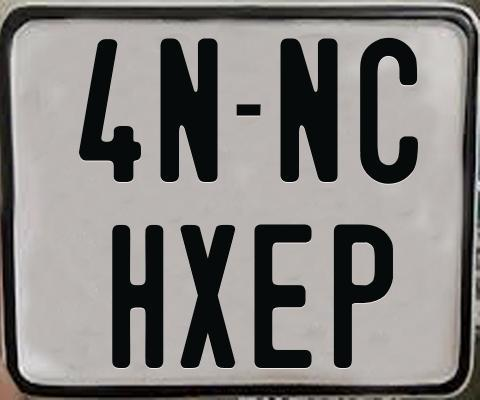4: (79, 37, 144, 184)
C: (360, 36, 419, 185)
E: (254, 223, 313, 373)
H: (111, 225, 162, 368)
N: (277, 37, 339, 186), (157, 36, 218, 183)
P: (333, 224, 397, 371)
X: (178, 223, 233, 368)
